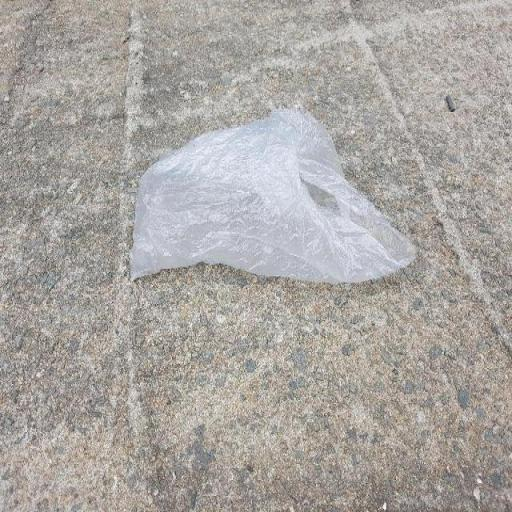plastic-bag: (128, 104, 420, 290)
